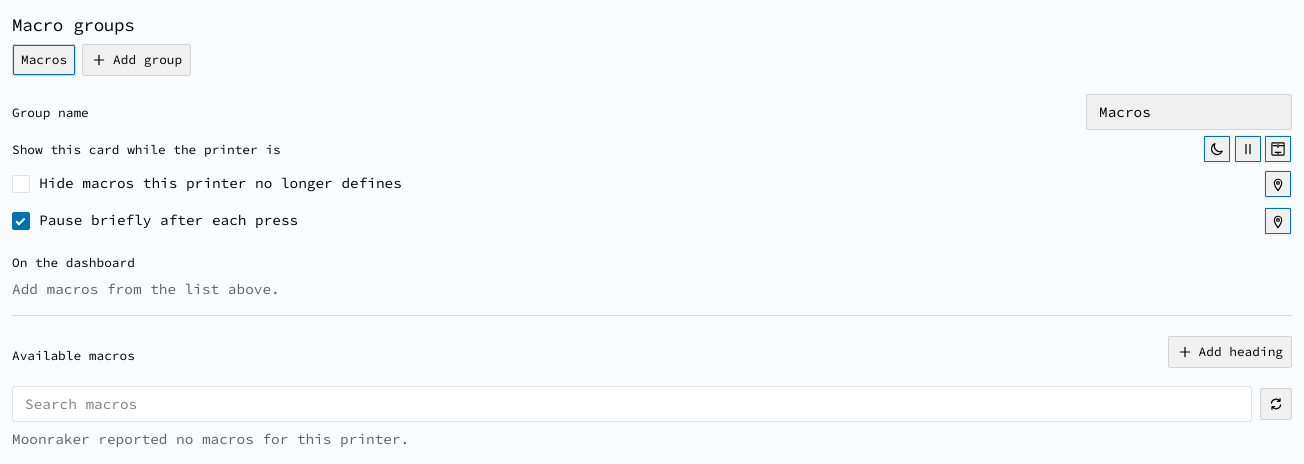
Test: MacrosSettingsPane › renders a title field that renames this instance on change
The image size is (1304, 464).
Type "Bed prep" into the field labelled "Group name" at [1189, 112], box 1086,94 -> 1292,130
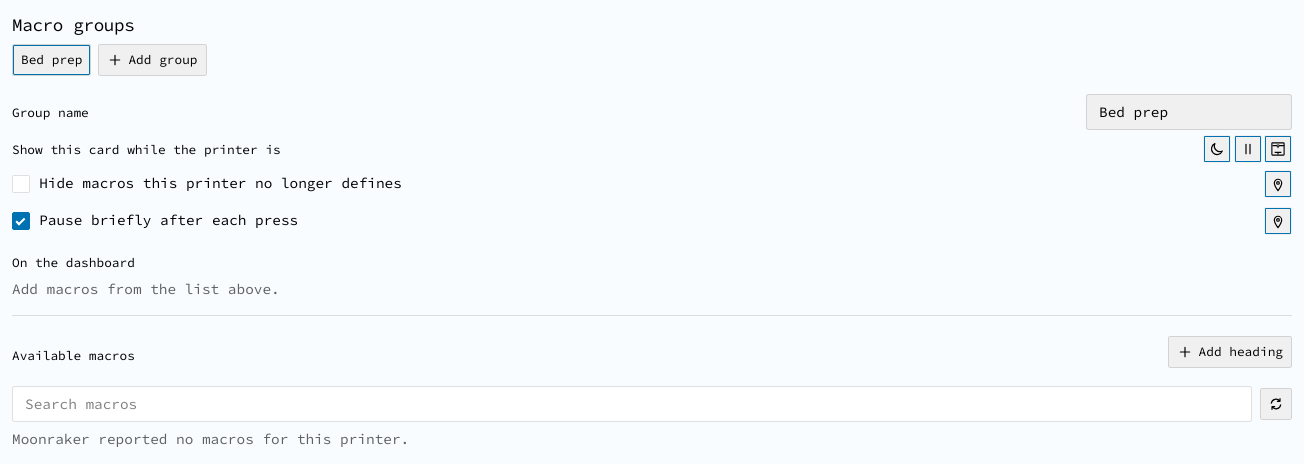
Result: the text "Bed prep" is shown at 21,50 -> 82,70
